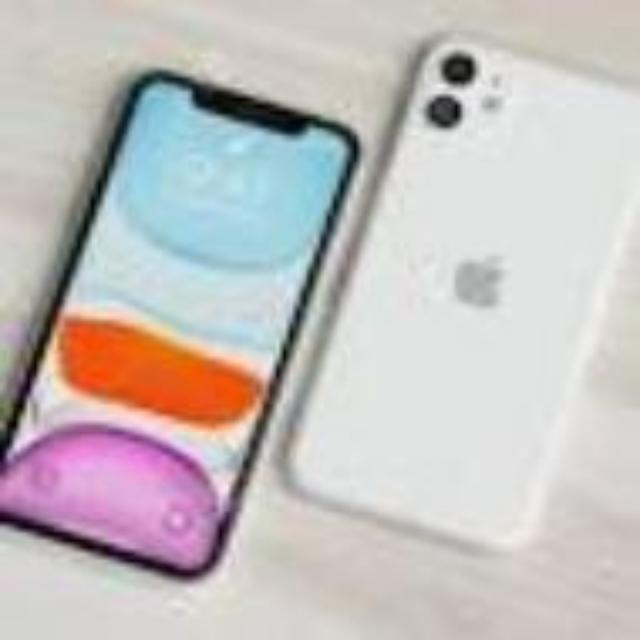PhoneUse: (1, 64, 363, 576), (282, 41, 640, 546)
